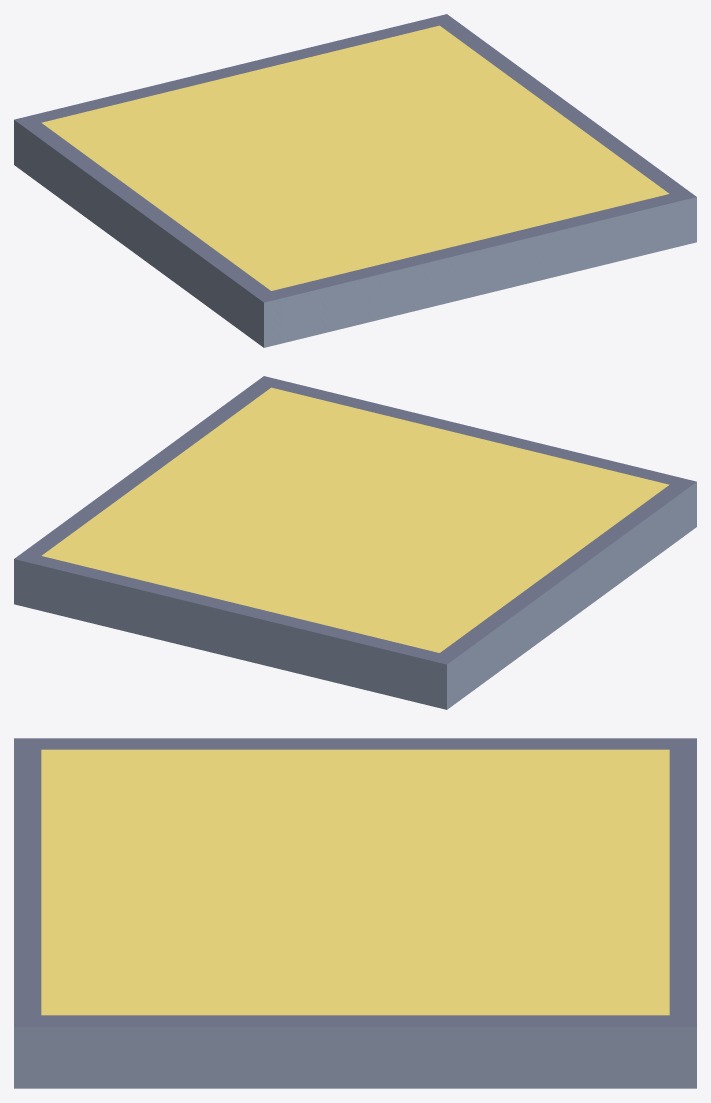
The model's file is SkyLift.glb.
The picture shows the model from 3 angles, top to bottom: view 1: azimuth 30°, elevation 25°; view 2: azimuth 150°, elevation 25°; view 3: azimuth 270°, elevation 25°; orthographic projection. The views are drawn at different scales.
Parts seen in each view (by area): view 1: SkyLift; view 2: SkyLift; view 3: SkyLift.
Part boxes in pixels (x1=…): SkyLift: x1=14, y1=14, x2=696, y2=347; SkyLift: x1=14, y1=376, x2=696, y2=709; SkyLift: x1=14, y1=738, x2=696, y2=1088.
Size of the model in its own units: 3 by 0.3 by 3.
